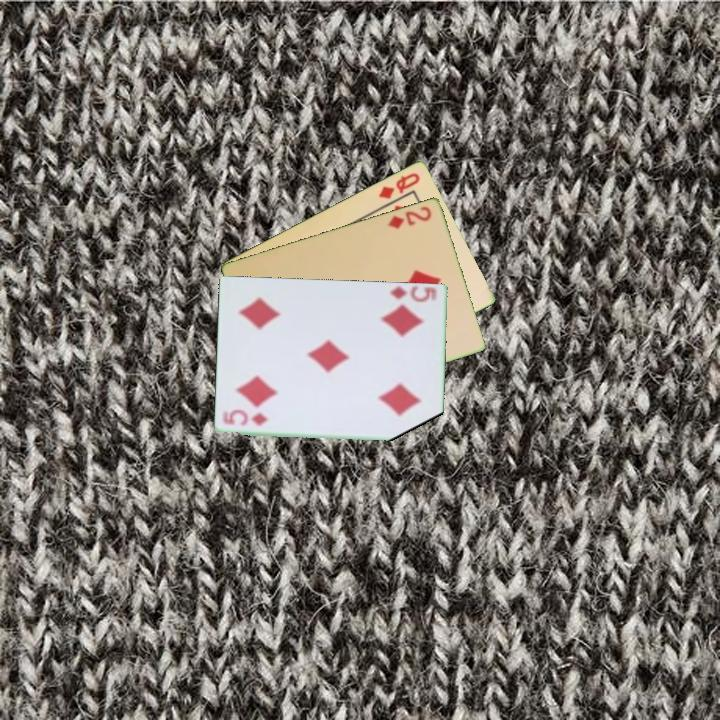2d: (384, 202, 435, 232)
5d: (387, 283, 441, 305), (220, 411, 271, 428)
Qd: (375, 169, 423, 202)
